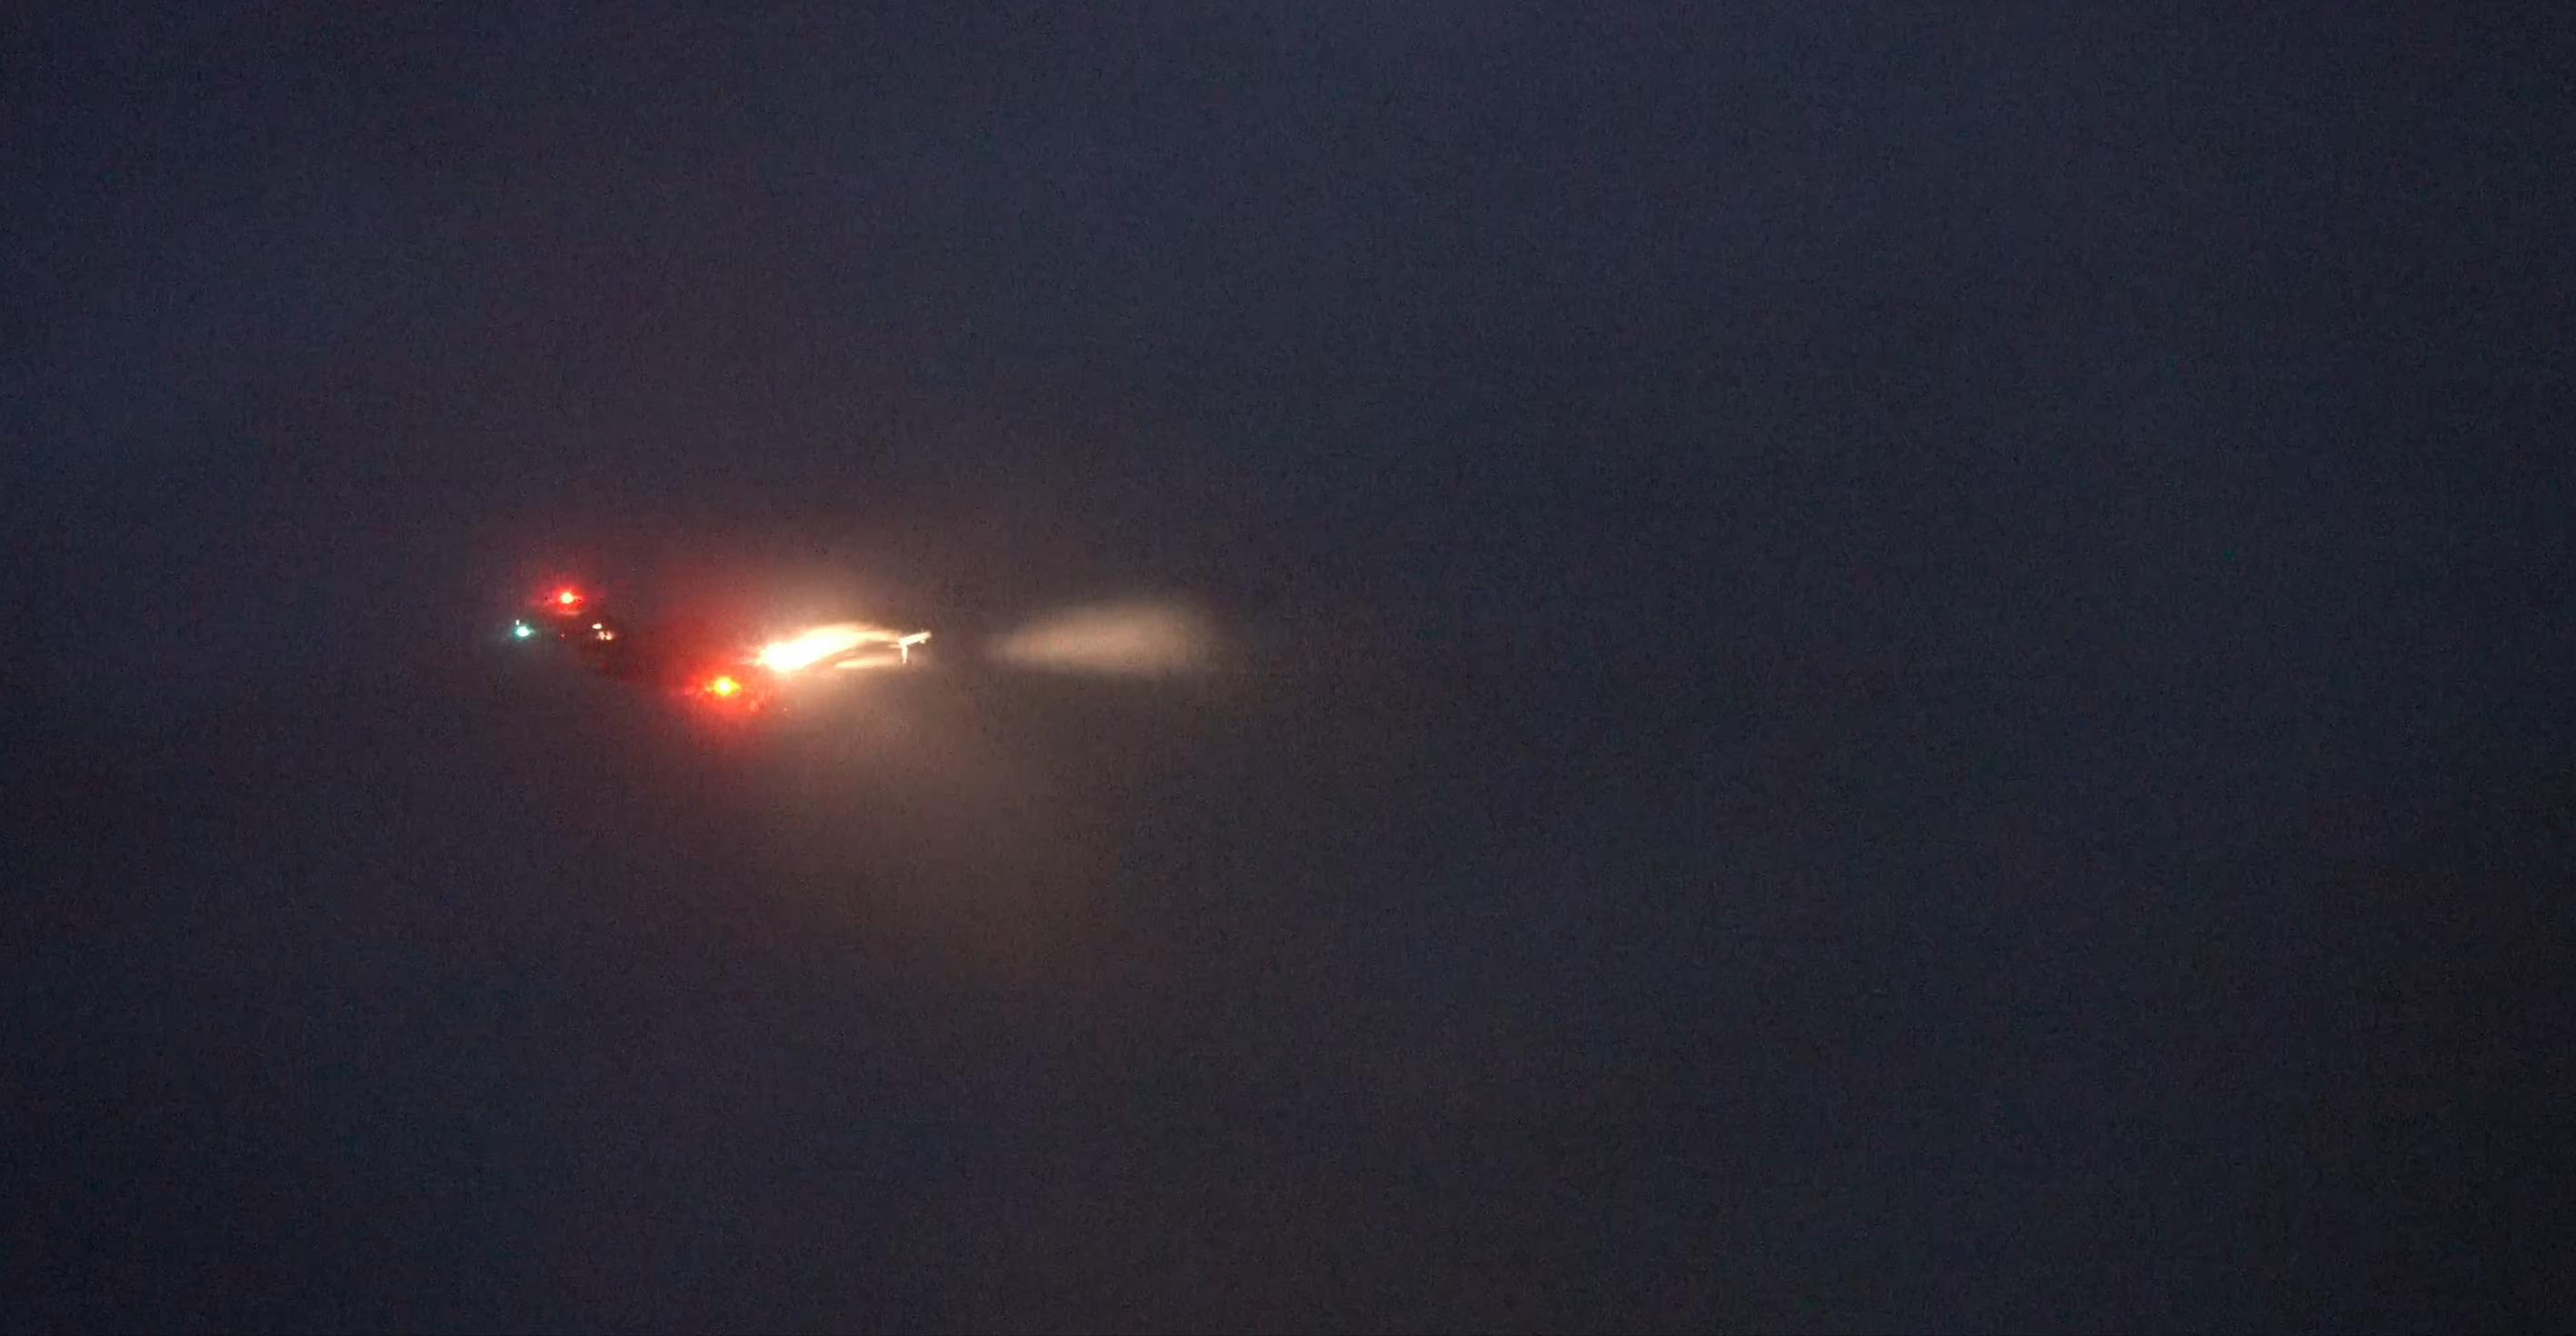Plane: (474, 559, 968, 731)
